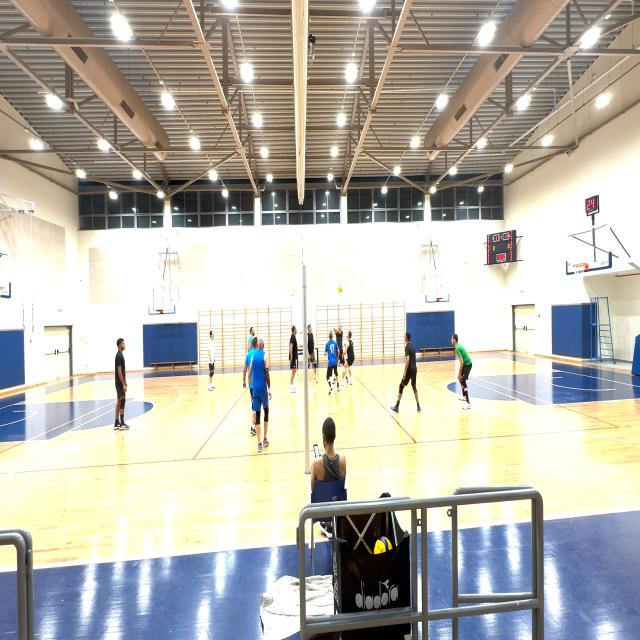volleyball: (373, 536, 393, 555), (338, 286, 342, 292)
